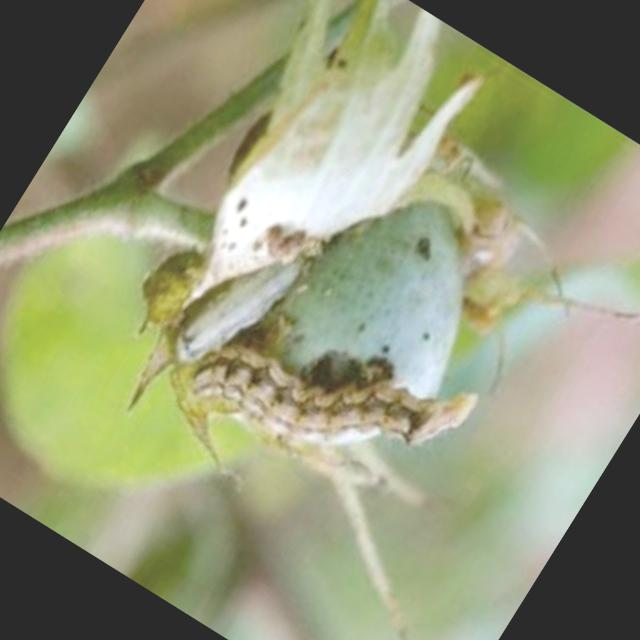Cotton bollworm: (138, 224, 508, 566)
